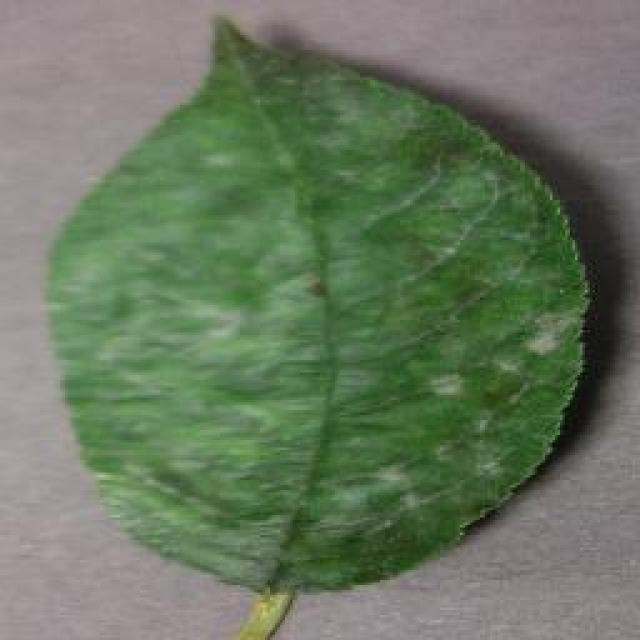Cherry___Powdery_mildew: (30, 2, 605, 640)
